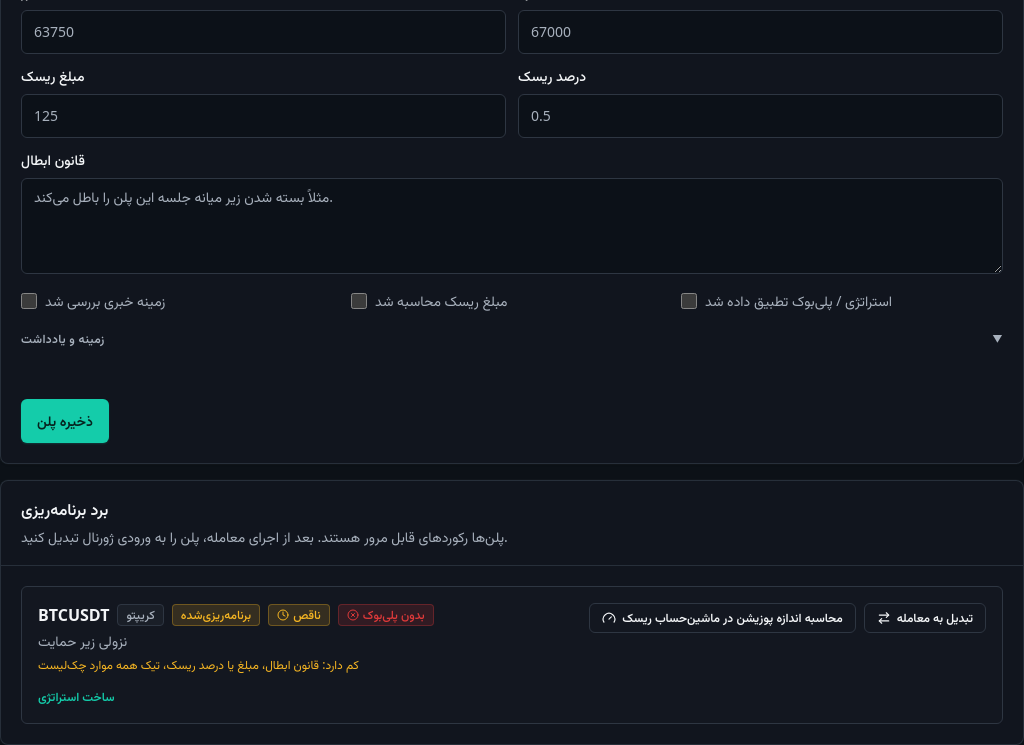
Test: converting a plan › lets the trader pick Long or Short for an older plan, starting from the side the bias wording suggests
(page scrolled)
Click the button "تبدیل به معامله" at (925, 618), box left=864, top=603, right=986, bottom=633
(page scrolled)
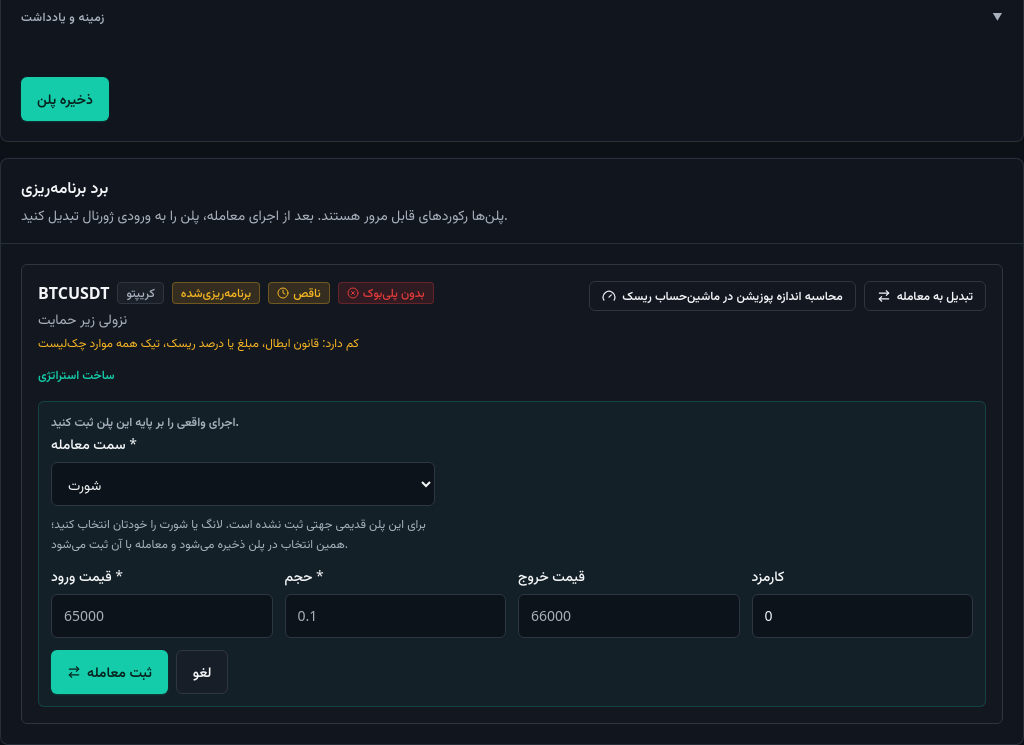
Result: the text "سمت معامله *" is shown at left=51, top=434, right=137, bottom=453
